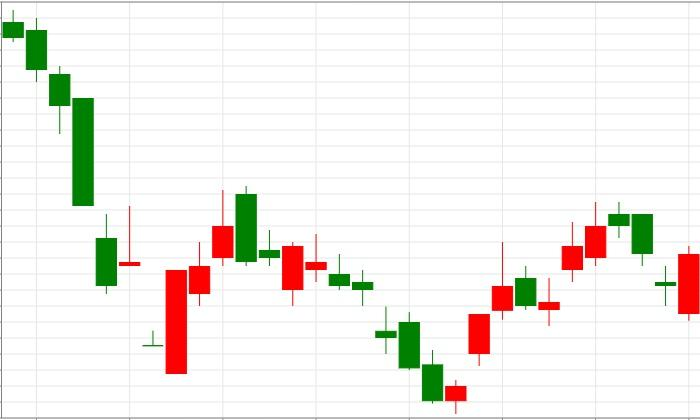bearish_engulfing_fall: (165, 186, 258, 374)
bullish_engulfing_rise: (2, 10, 188, 374), (608, 201, 700, 321)
three_white_soldiers_rise: (235, 185, 514, 413)
